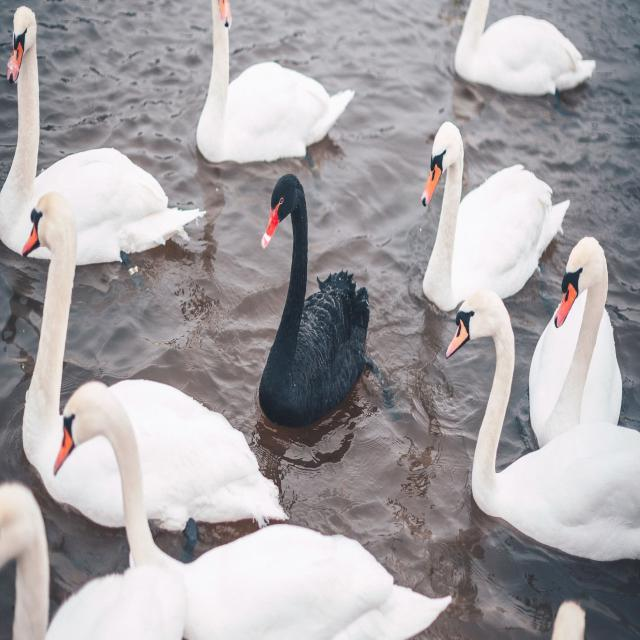swan: (54, 382, 450, 639), (0, 6, 204, 265), (446, 290, 640, 561), (259, 174, 379, 426), (0, 482, 186, 639), (421, 122, 570, 310), (196, 0, 354, 163), (529, 237, 621, 446), (454, 0, 595, 95), (568, 300, 574, 307)
